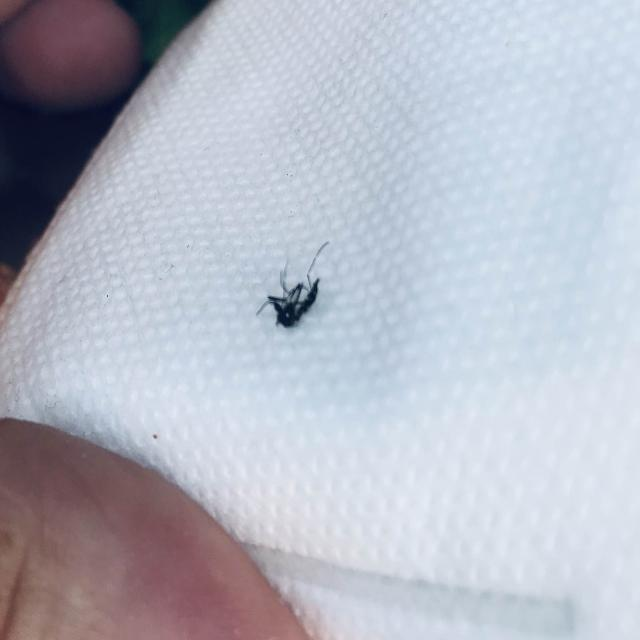albopictus: (252, 236, 334, 331)
